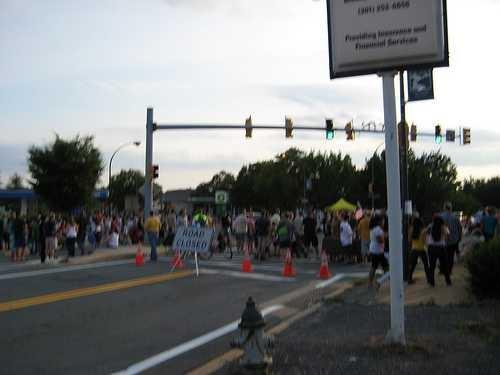green: (323, 117, 335, 142), (434, 124, 444, 147)
